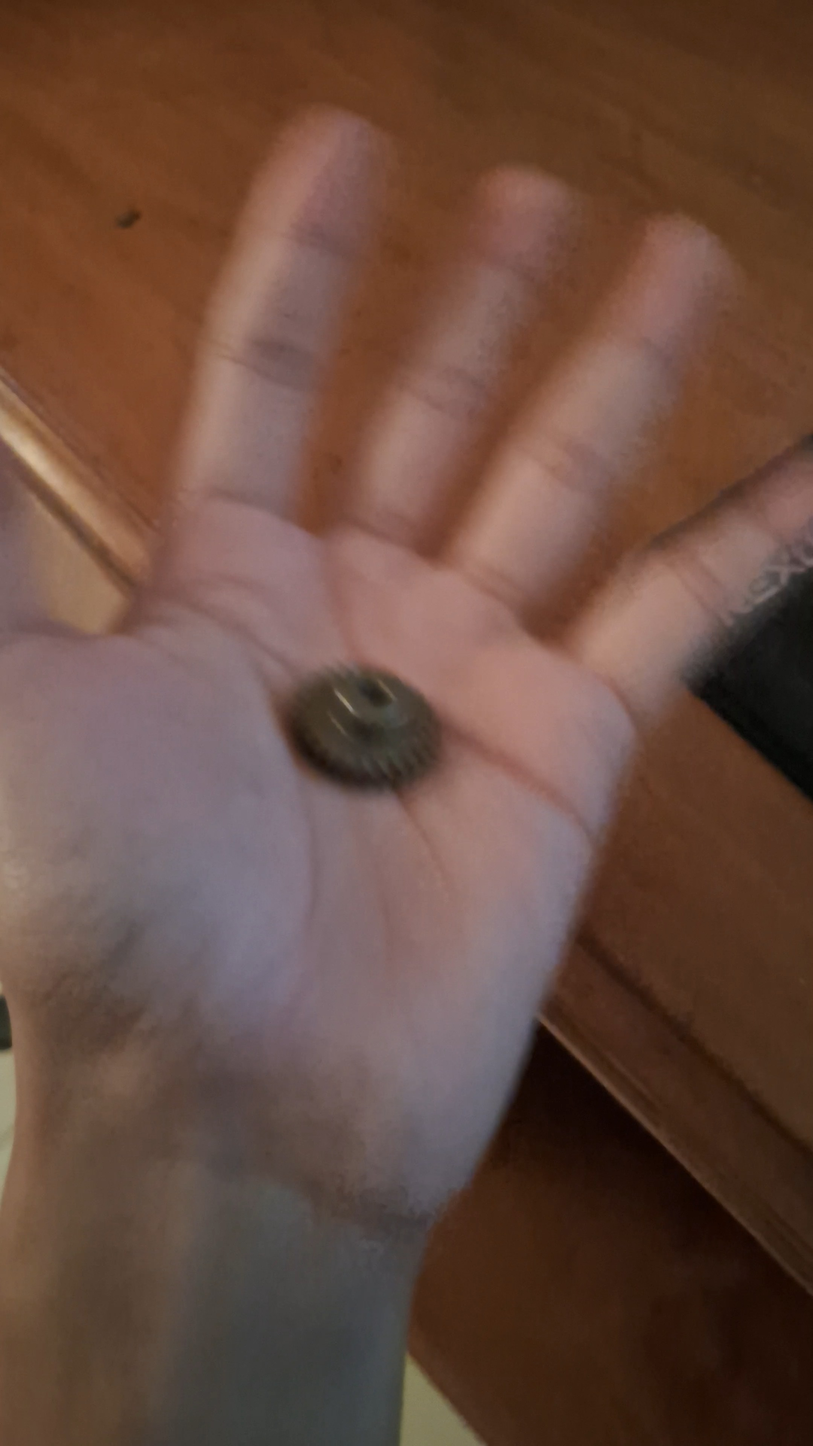spur gear: (289, 667, 440, 790)
